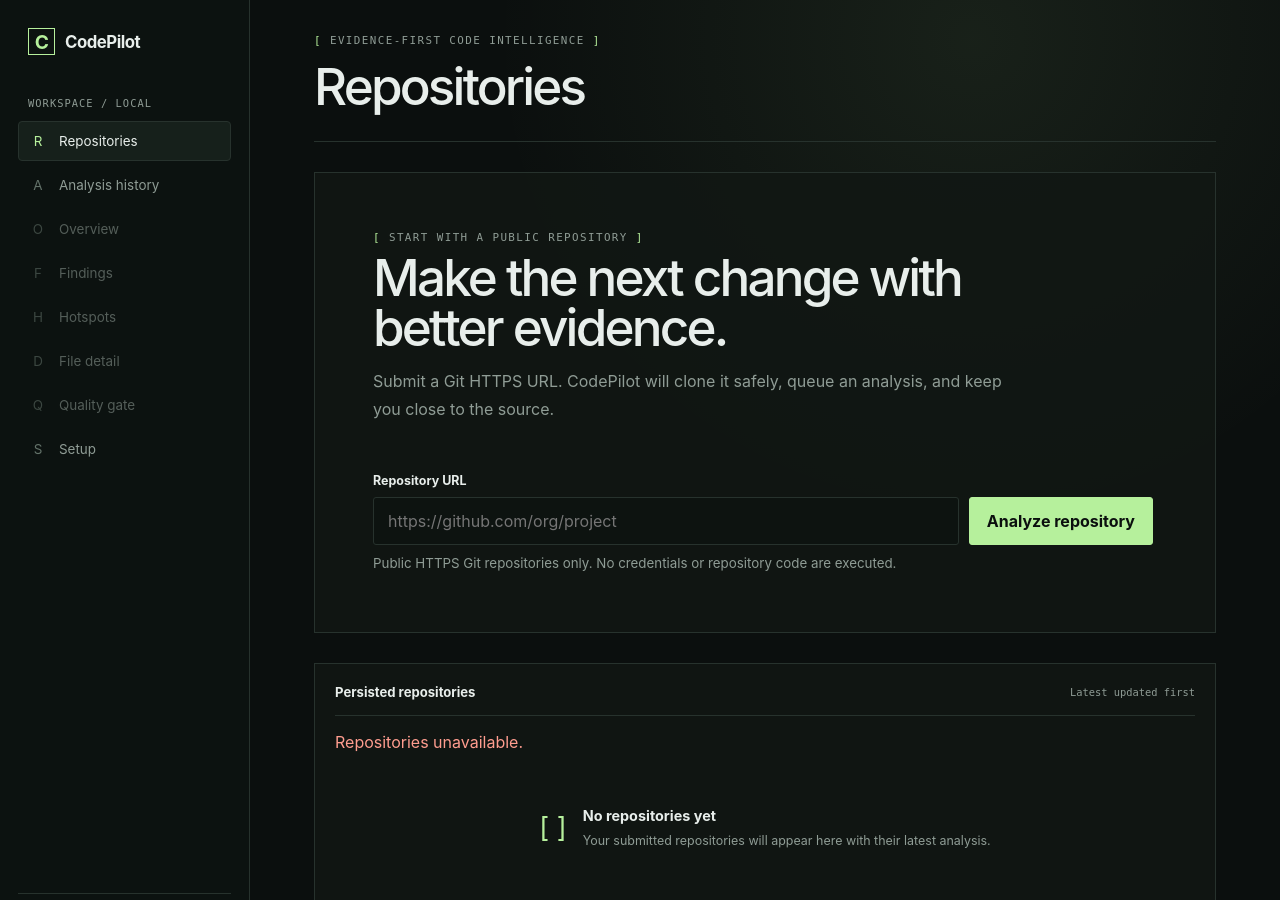
analysis history and quality KPI › keeps analysis history available when the project catalog fails
Click the button "A Analysis history" at (124, 185), box [18,165,231,205]
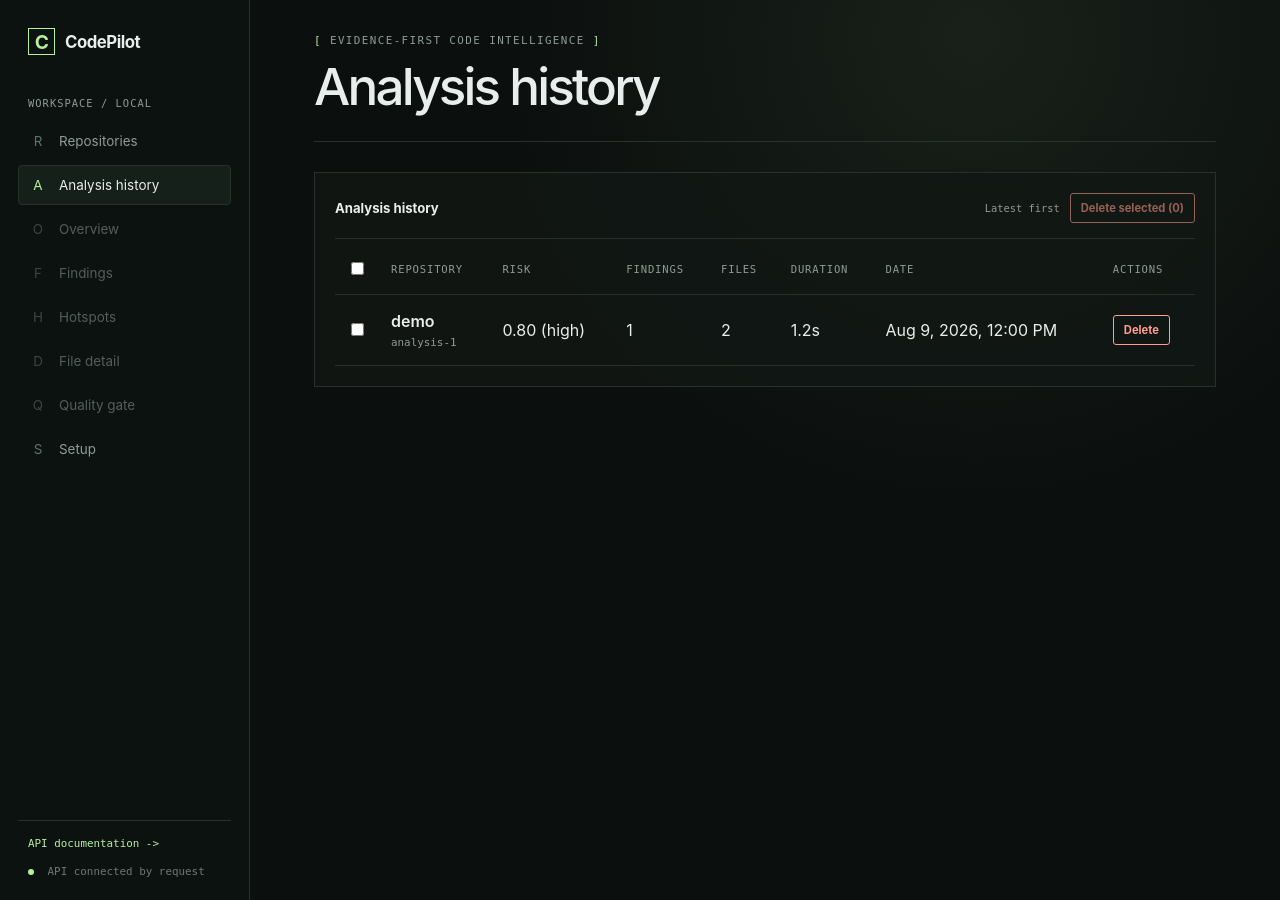
Check: the column heading "demo analysis-1" is shown, box [379,295,490,366]
Click the button "R Repositories" at (124, 141), box [18,121,231,161]
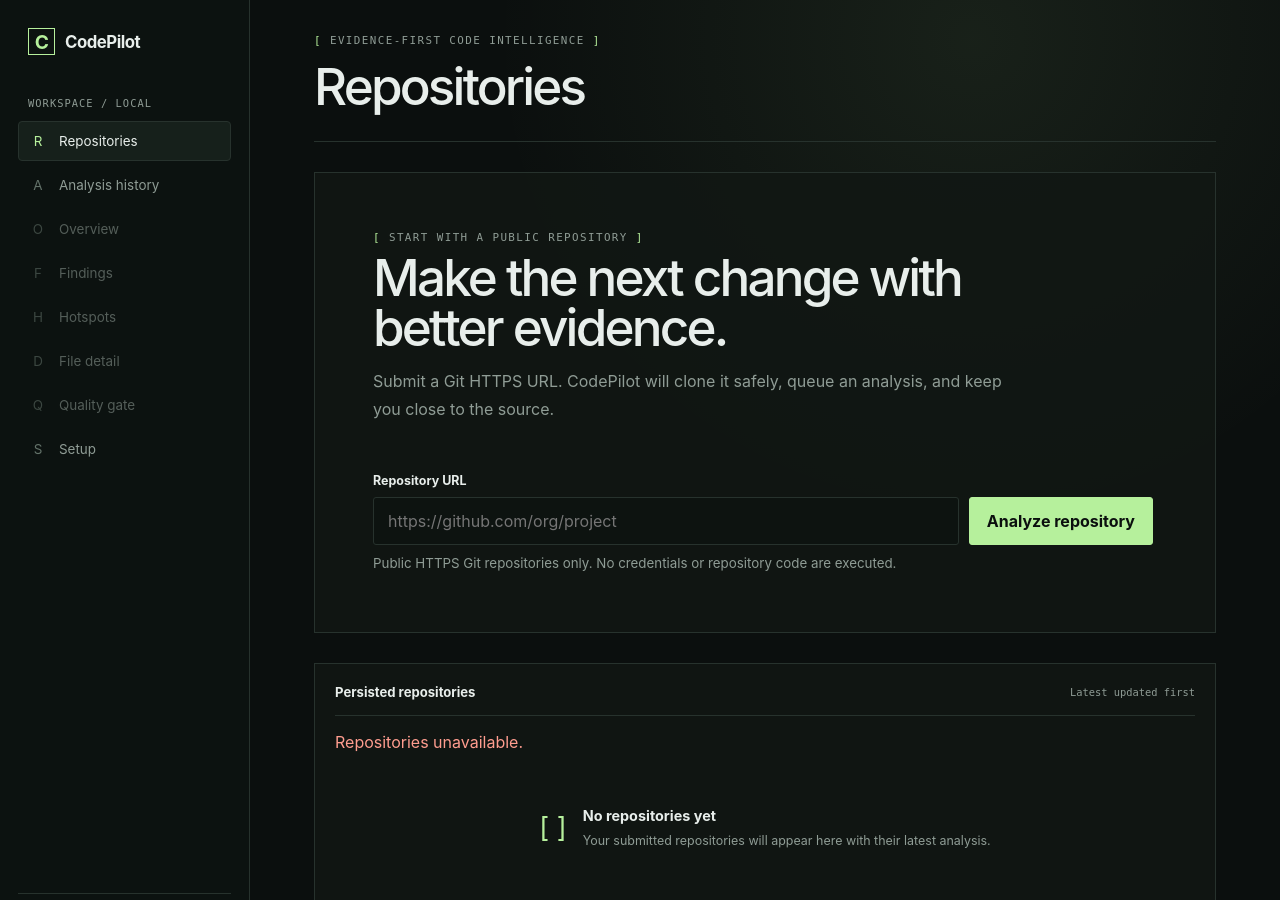
Check: the message reads "Repositories unavailable.", box [335,732,523,752]
